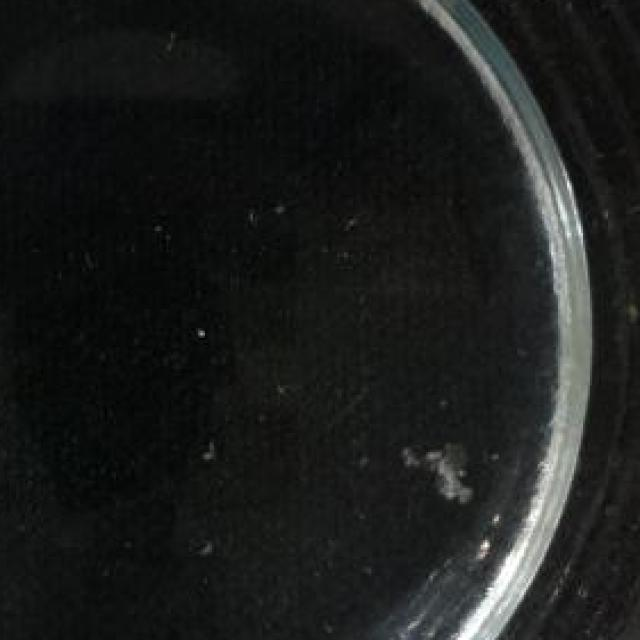Microplastic: (401, 417, 480, 542)
